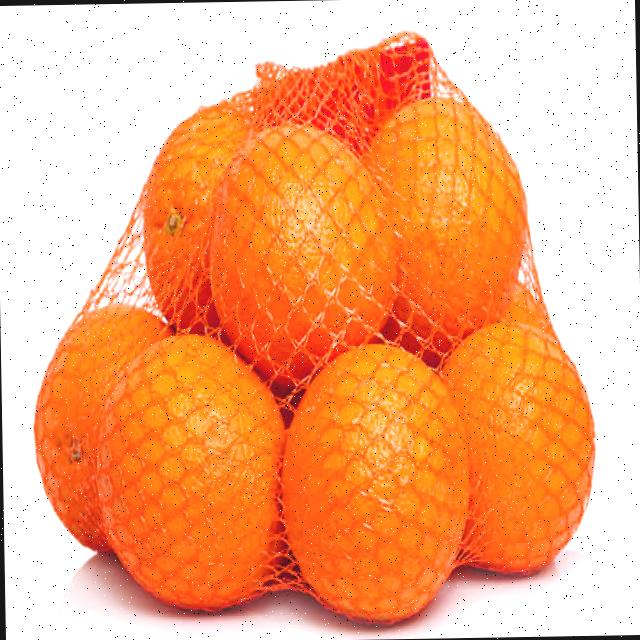orange: (32, 316, 296, 619), (280, 335, 474, 630), (198, 117, 402, 391), (431, 314, 598, 590), (357, 90, 530, 354)
